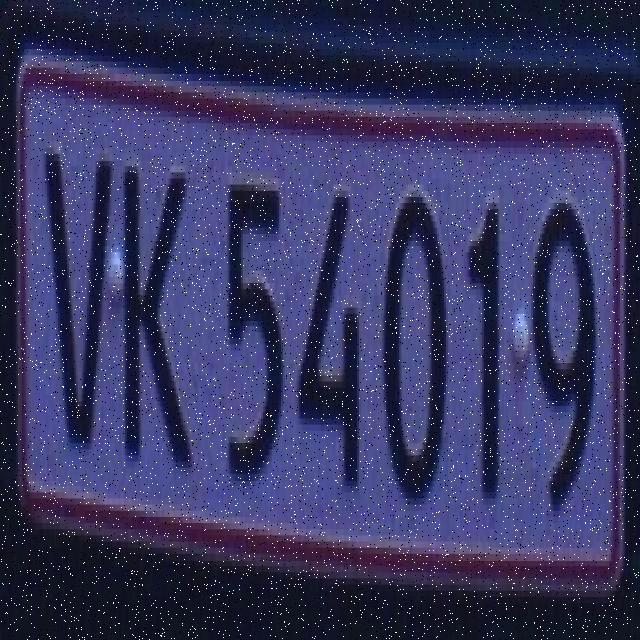licenseplate: (9, 43, 636, 592)
